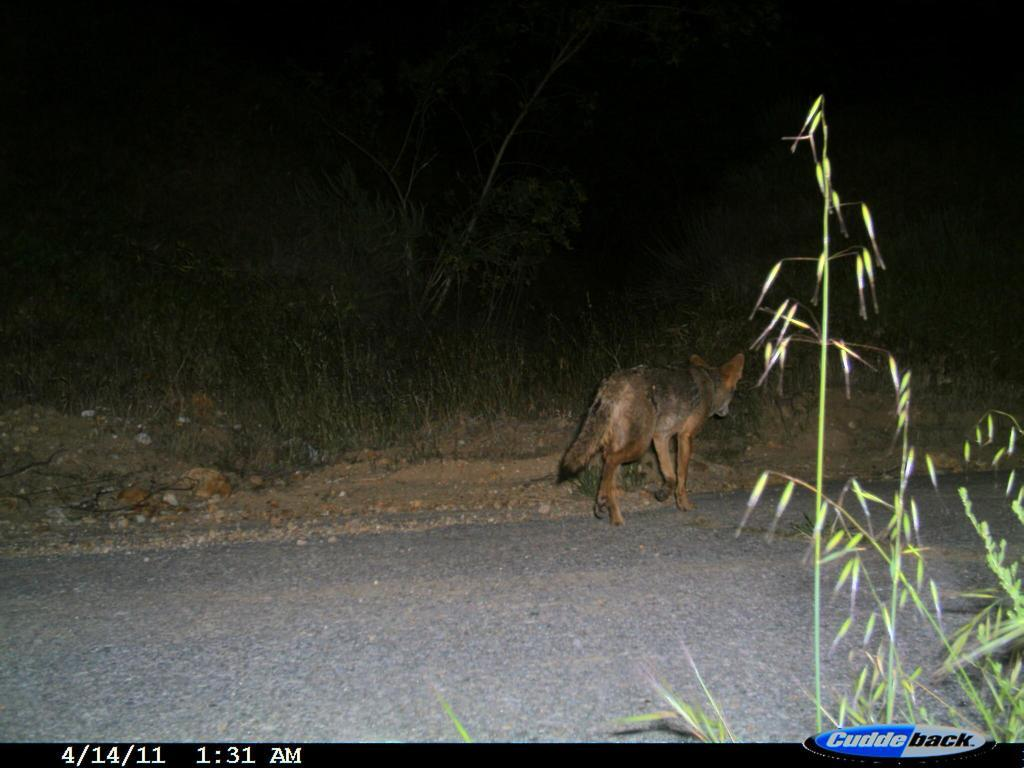coyote: (548, 345, 751, 534)
